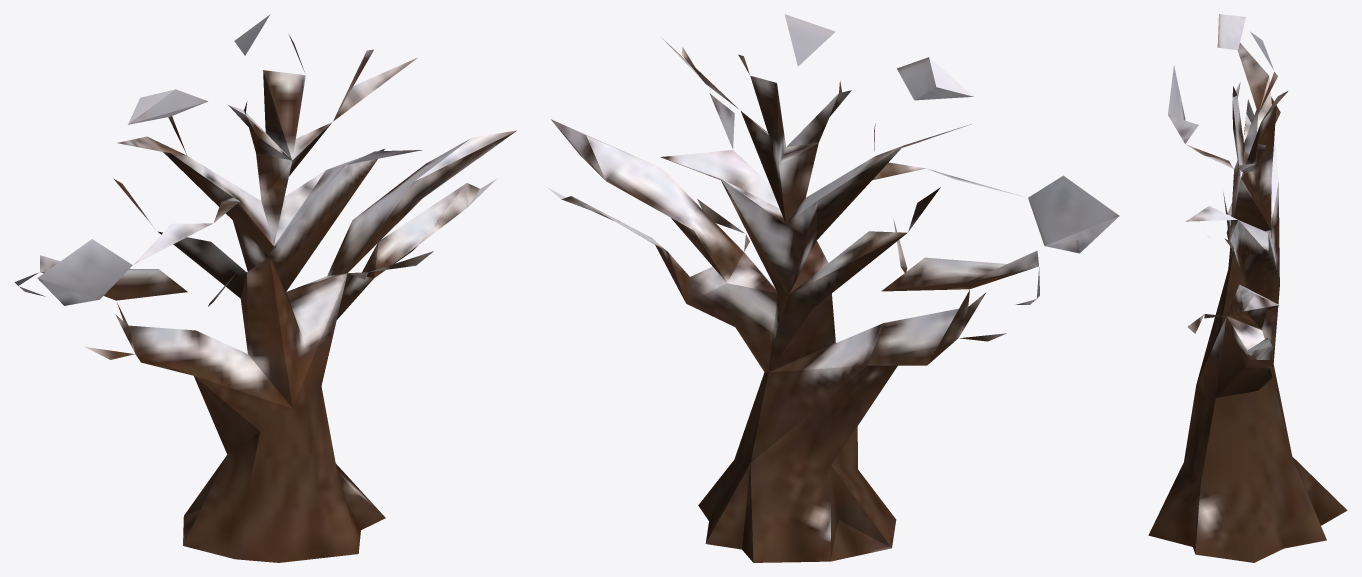
File: tree_oak_winter.lod3.glb
The picture shows the model from 3 angles, left to right: view 1: azimuth 30°, elevation 25°; view 2: azimuth 150°, elevation 25°; view 3: azimuth 270°, elevation 25°; orthographic projection. The views are drawn at different scales.
Parts seen in each view (by area): view 1: tree_oak_winter.lod3_uv; view 2: tree_oak_winter.lod3_uv; view 3: tree_oak_winter.lod3_uv.
Part boxes in pixels (bbox=[...]): tree_oak_winter.lod3_uv: bbox=[14, 14, 516, 562]; tree_oak_winter.lod3_uv: bbox=[547, 14, 1119, 562]; tree_oak_winter.lod3_uv: bbox=[1148, 14, 1347, 562].
Size of the model in its own units: 1.81 by 1.68 by 0.6299.
Materials: 1 (1 with a texture image).
